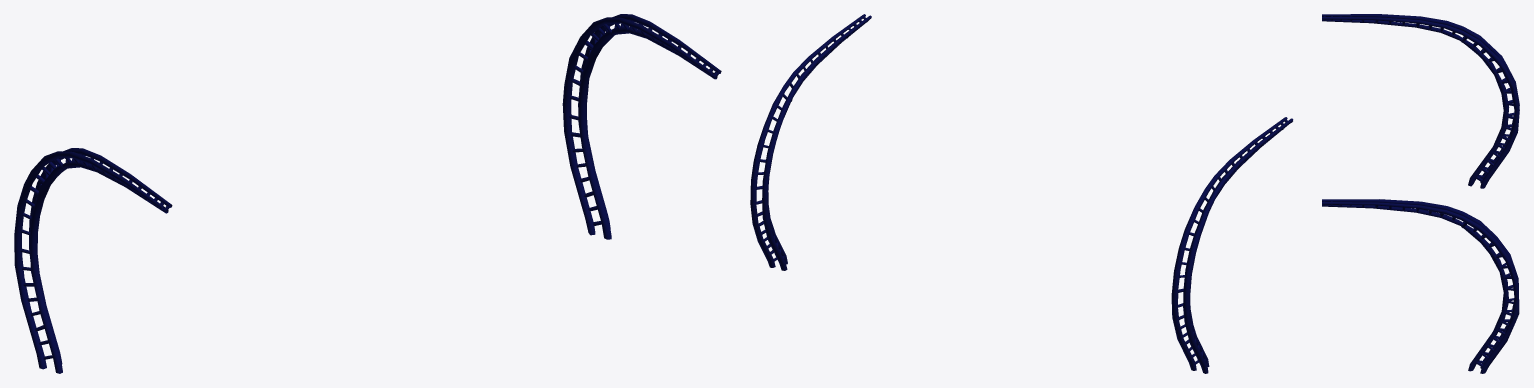
The model's file is Al_Nasar_Football_Stadium_NurbsPath_004.FBX.
3 renders of one model, left to right at view 1: azimuth 30°, elevation 25°; view 2: azimuth 150°, elevation 25°; view 3: azimuth 270°, elevation 25°, orthographic. The views are drawn at different scales.
Visible parts, largest first — view 1: Al_Nasar_Football_Stadium_NurbsPath_004; view 2: Al_Nasar_Football_Stadium_NurbsPath_004; view 3: Al_Nasar_Football_Stadium_NurbsPath_004.
Part boxes in pixels (left/top/right/bottom): Al_Nasar_Football_Stadium_NurbsPath_004: left=14, top=14, right=721, bottom=373; Al_Nasar_Football_Stadium_NurbsPath_004: left=750, top=14, right=1293, bottom=373; Al_Nasar_Football_Stadium_NurbsPath_004: left=1322, top=14, right=1519, bottom=373.
Bounding box in the file's own units: 9417 × 4086 × 3870.
